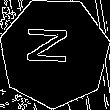N_E: (29, 32, 80, 73)
